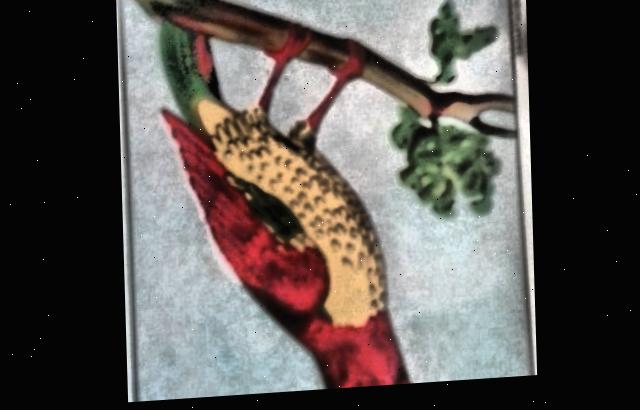El Pajaro: (122, 0, 529, 404)
